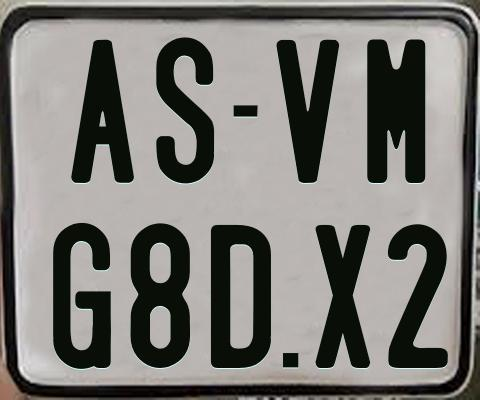2: (385, 224, 450, 374)
8: (130, 221, 192, 371)
A: (68, 37, 136, 183)
D: (209, 225, 272, 372)
G: (50, 221, 111, 372)
M: (364, 37, 423, 181)
S: (155, 36, 216, 188)
V: (273, 37, 339, 182)
X: (315, 222, 371, 367)
